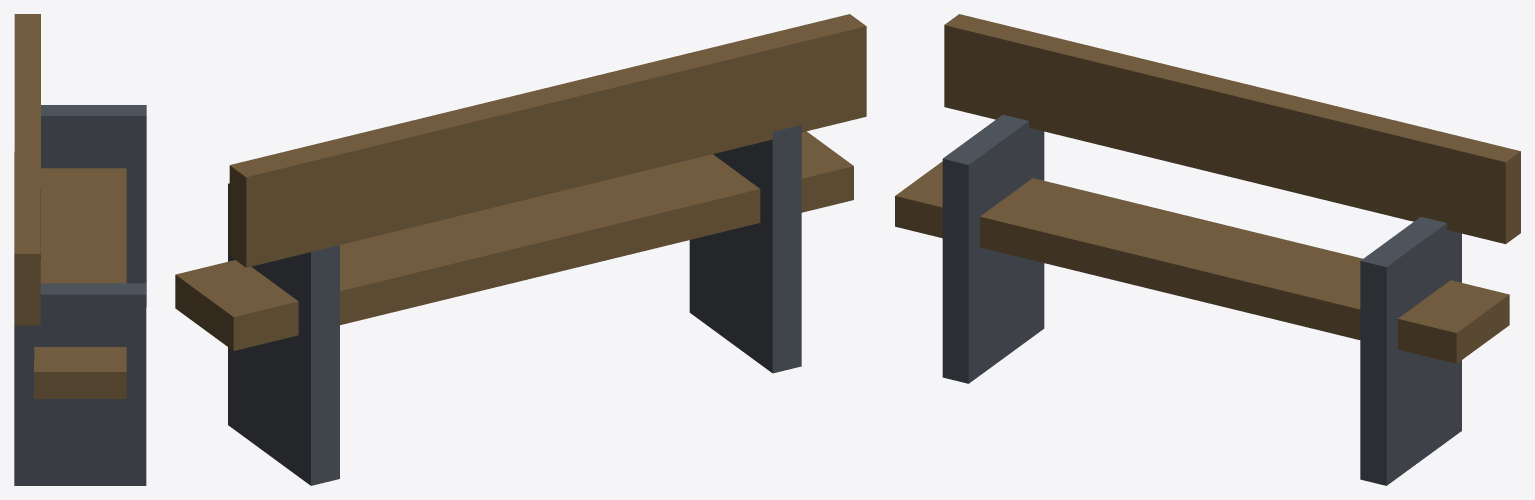
The model's file is cell--405_45.glb.
The picture shows the model from 3 angles, left to right: view 1: azimuth 30°, elevation 25°; view 2: azimuth 150°, elevation 25°; view 3: azimuth 270°, elevation 25°; orthographic projection. The views are drawn at different scales.
Visible parts, largest first — view 1: cell--405_45; view 2: cell--405_45; view 3: cell--405_45.
Part boxes in pixels (x1,y1,x2,y2): cell--405_45: (14,14,146,485); cell--405_45: (175,14,866,485); cell--405_45: (895,14,1520,485).
Bounding box in the file's own units: 0.5776 × 0.43 × 0.8296.
